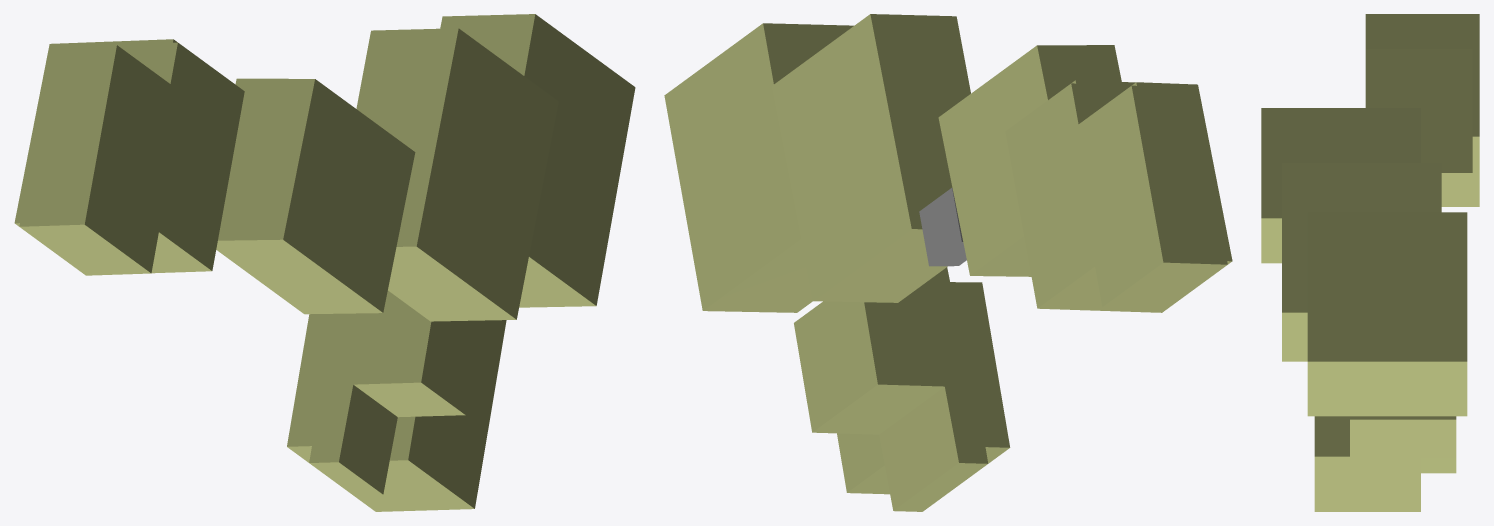
The picture shows the model from 3 angles, left to right: view 1: azimuth 30°, elevation 25°; view 2: azimuth 150°, elevation 25°; view 3: azimuth 270°, elevation 25°; orthographic projection. The views are drawn at different scales.
Parts seen in each view (by area): view 1: 0_1_2_0_1_3_0_2_0_3; view 2: 0_1_2_0_1_3_0_2_0_3; view 3: 0_1_2_0_1_3_0_2_0_3.
Part boxes in pixels (box(x1,y1,x2,y2)): 0_1_2_0_1_3_0_2_0_3: box(14, 14, 635, 511); 0_1_2_0_1_3_0_2_0_3: box(664, 14, 1232, 511); 0_1_2_0_1_3_0_2_0_3: box(1261, 14, 1479, 511).
Bounding box in the file's own units: 26.62 × 23.19 × 12.31.
